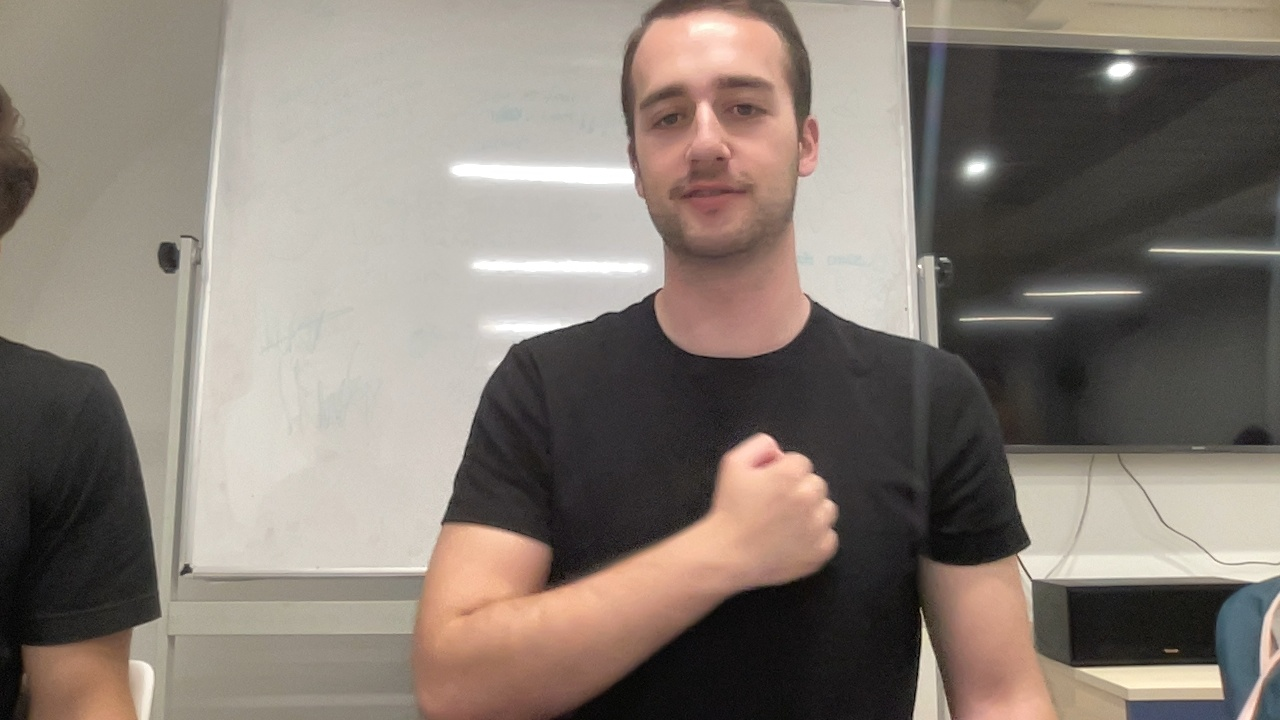Sorry: (405, 425, 842, 720)
